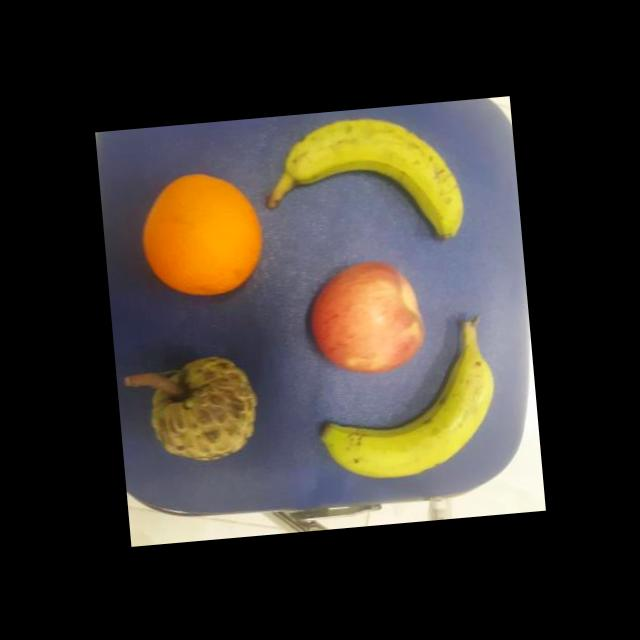Sakya fruit: (146, 351, 262, 463)
apple: (310, 256, 430, 380)
banana: (310, 314, 502, 481), (267, 108, 467, 254)
orange: (137, 165, 268, 300)
